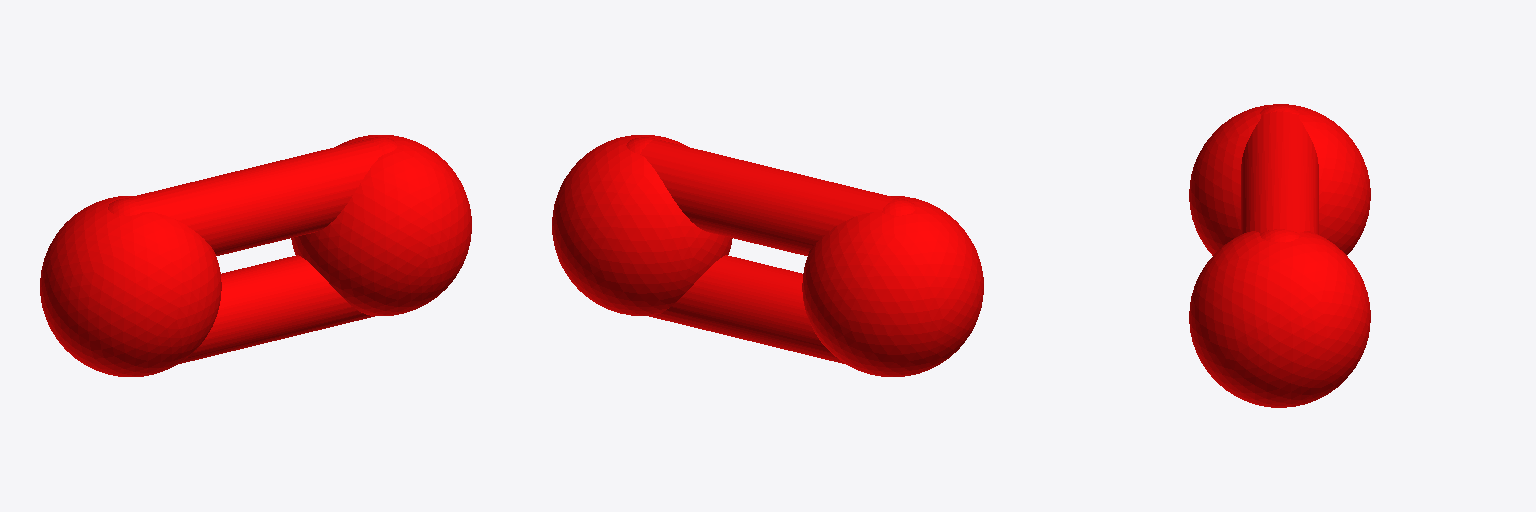
Rendered from molecularoxygen.obj.
The picture shows the model from 3 angles: view 1: azimuth 30°, elevation 25°; view 2: azimuth 150°, elevation 25°; view 3: azimuth 270°, elevation 25°; orthographic projection.
Visible parts, largest first — view 1: O2_Atom, O1_Atom, Cylinder1, Cylinder2; view 2: O2_Atom, O1_Atom, Cylinder1, Cylinder2; view 3: O1_Atom, O2_Atom, Cylinder1.
Part boxes in pixels (left/top/right/bottom): O2_Atom: left=40, top=196, right=221, bottom=376; O1_Atom: left=291, top=135, right=471, bottom=315; Cylinder1: left=128, top=140, right=383, bottom=255; Cylinder2: left=179, top=255, right=374, bottom=363; O2_Atom: left=802, top=196, right=983, bottom=376; O1_Atom: left=552, top=135, right=732, bottom=315; Cylinder1: left=640, top=140, right=896, bottom=255; Cylinder2: left=649, top=255, right=846, bottom=364; O1_Atom: left=1189, top=231, right=1370, bottom=407; O2_Atom: left=1189, top=104, right=1370, bottom=255; Cylinder1: left=1241, top=111, right=1318, bottom=234.
Bounding box in the file's own units: 1.81 × 0.7213 × 0.699.